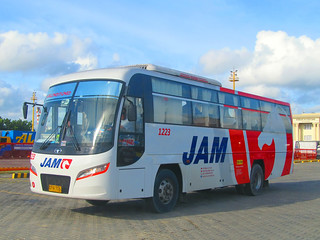bus: (29, 66, 294, 213)
